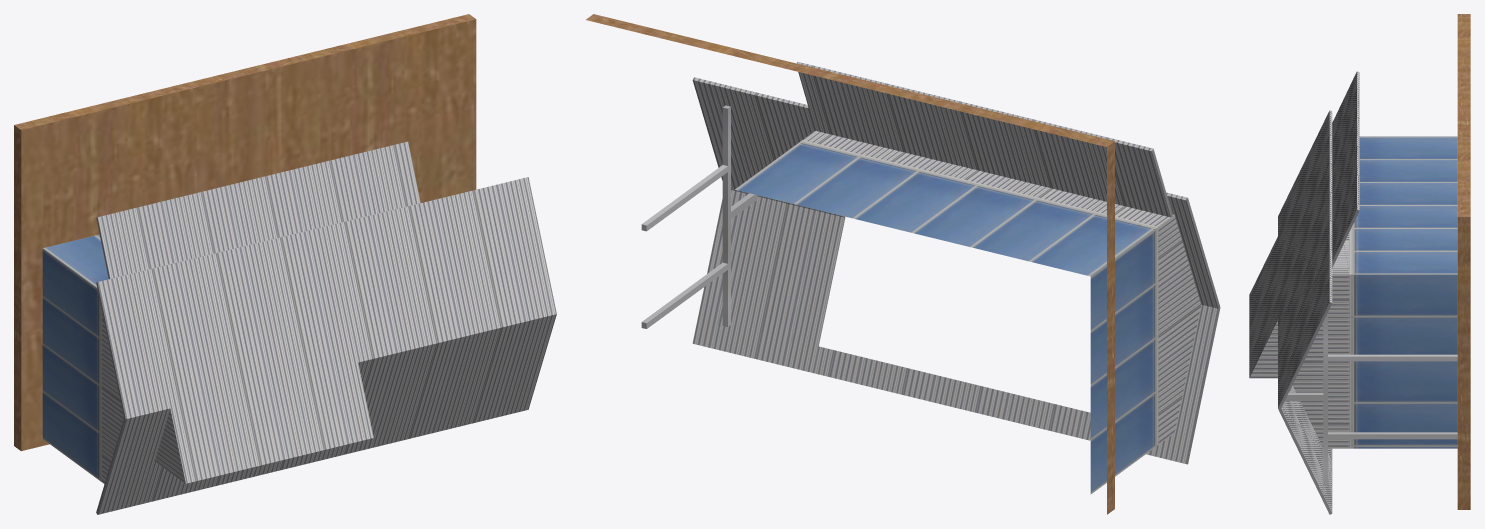
File: sgy_ydhj_03.gltf
3 renders of one model, left to right at view 1: azimuth 30°, elevation 25°; view 2: azimuth 150°, elevation 25°; view 3: azimuth 270°, elevation 25°, orthographic. The views are drawn at different scales.
Parts seen in each view (by area): view 1: Box009; view 2: Box009; view 3: Box009.
Boxes of the visible parts, x1,y1,x2,y2 form: Box009: (14, 14, 556, 514); Box009: (586, 14, 1220, 514); Box009: (1249, 14, 1470, 514).
Size of the model in its own units: 15.1 by 10.62 by 6.96.
3 materials, 3 textured.
